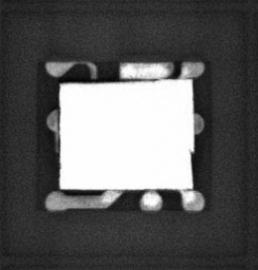DIE_BROKEN: (188, 150, 195, 186)
